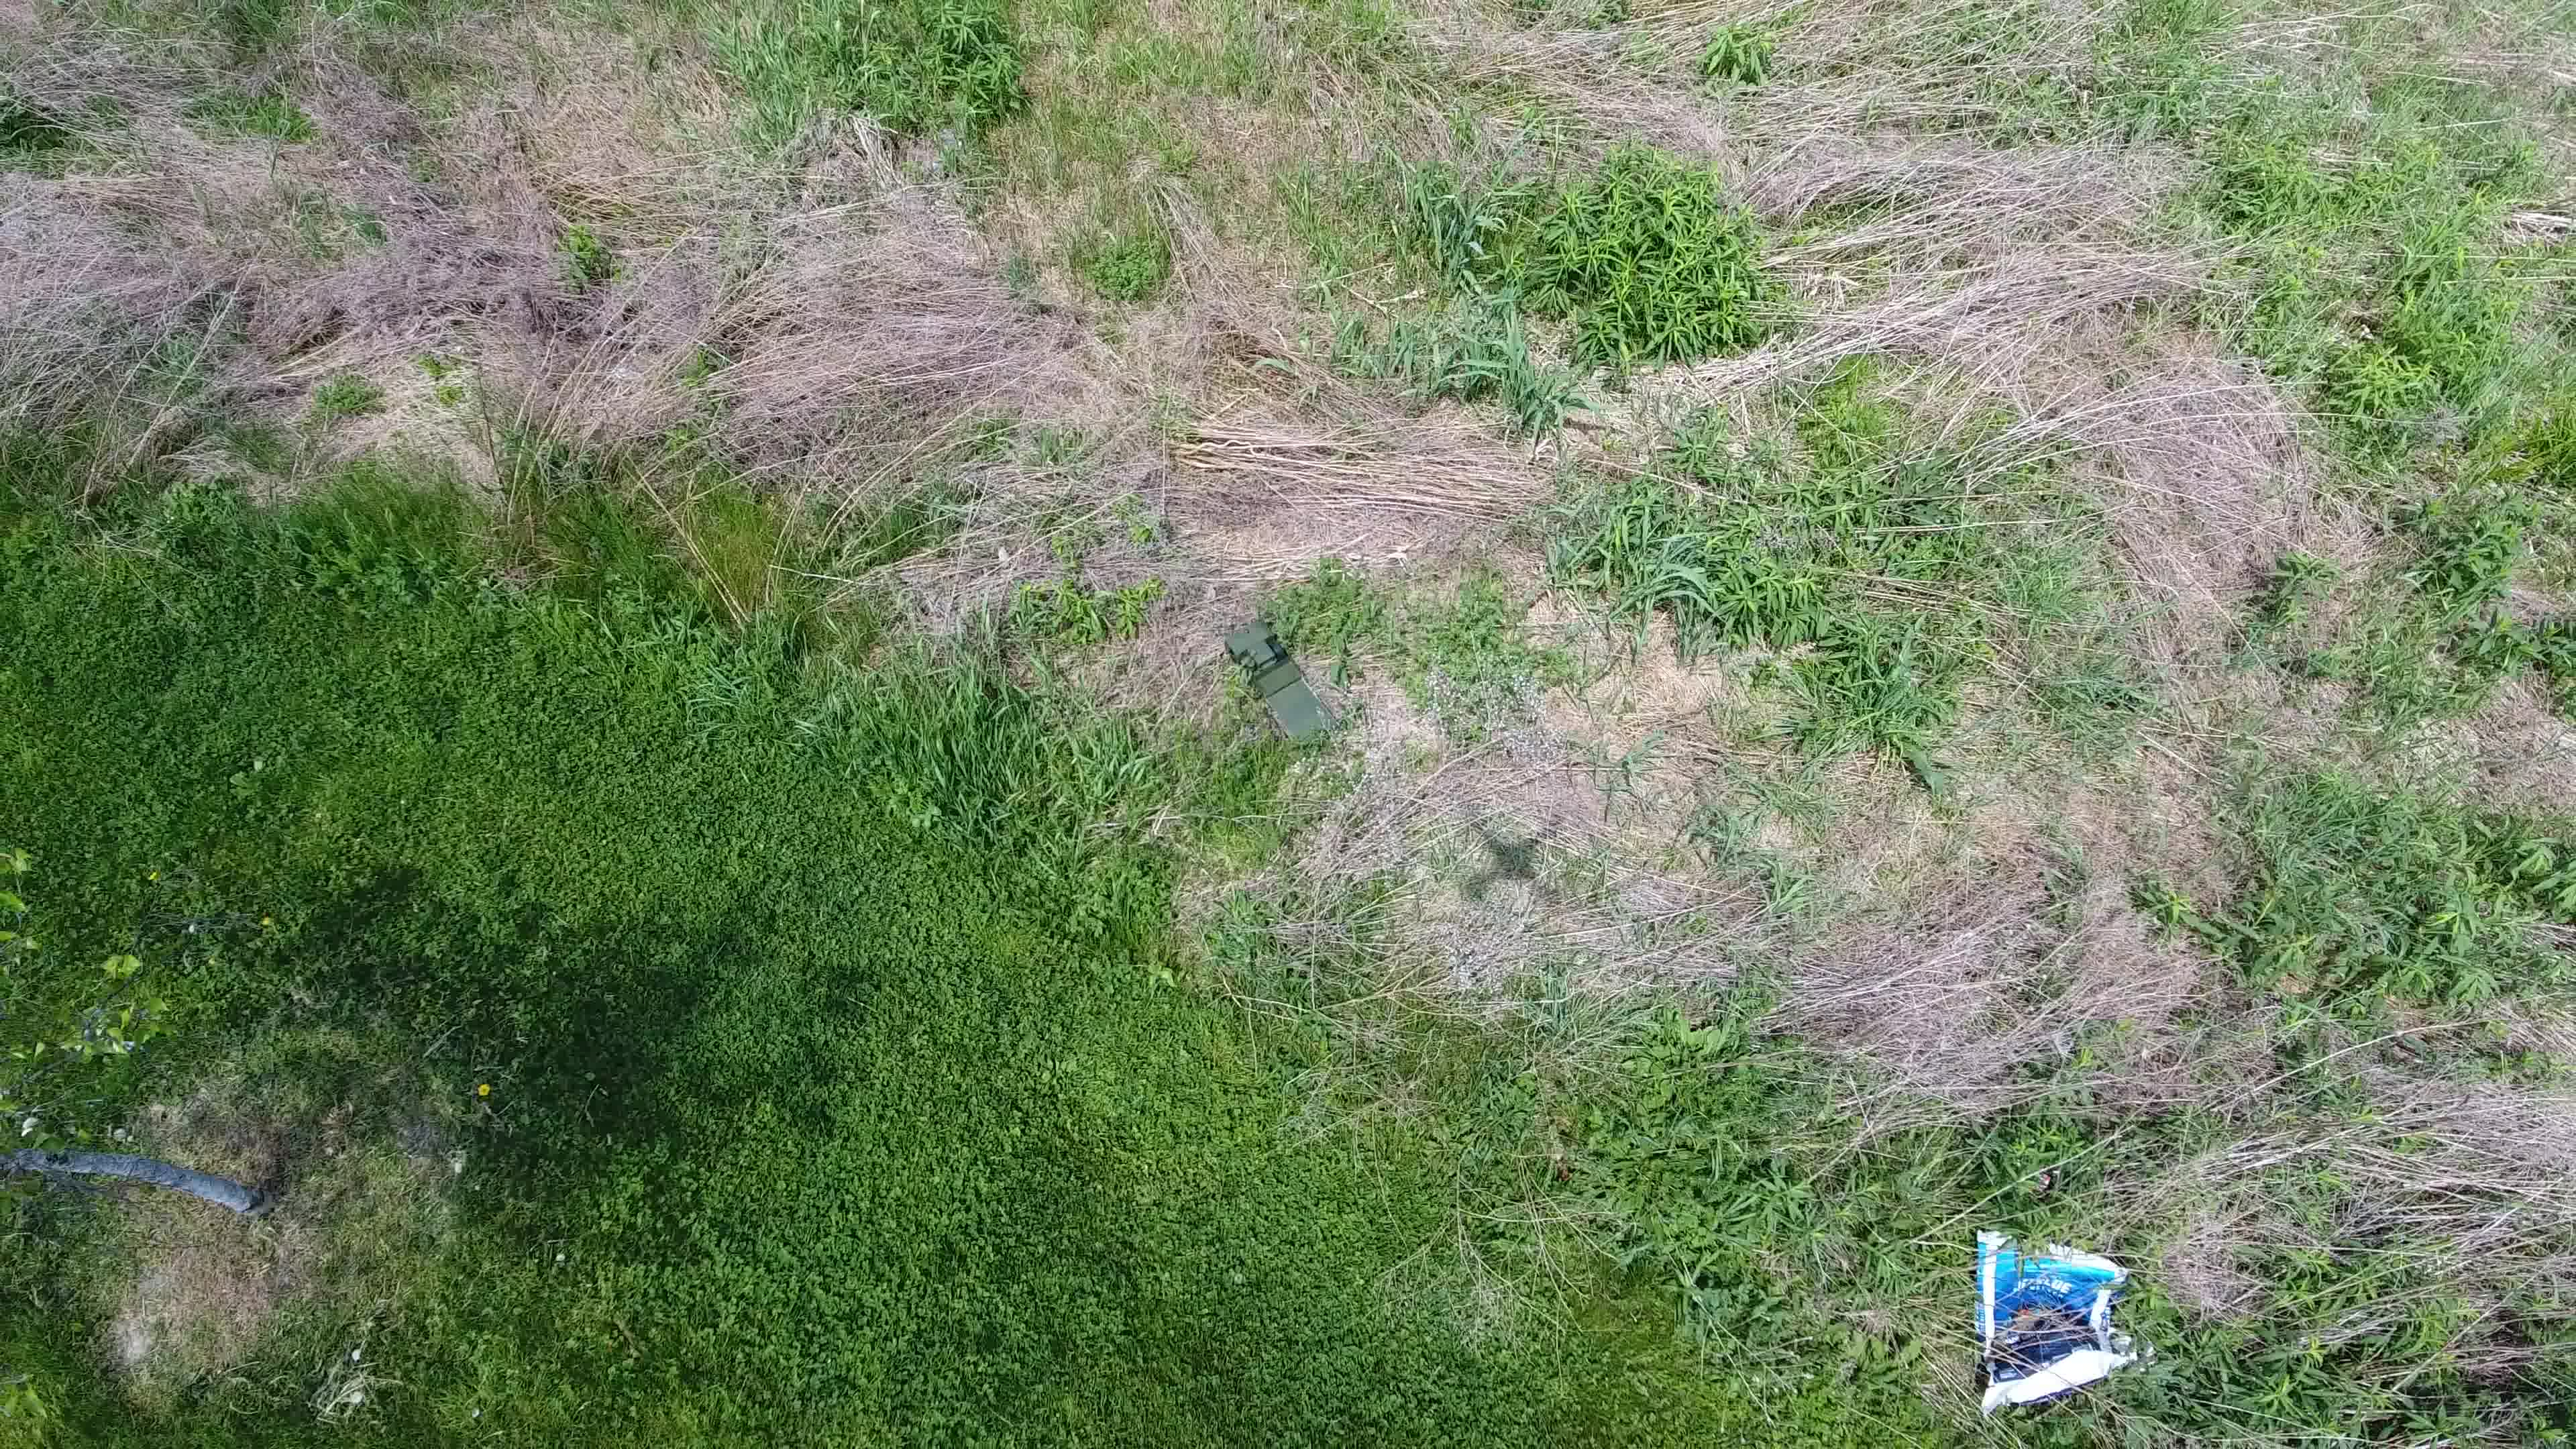transporter9: (1217, 612, 1343, 754)
